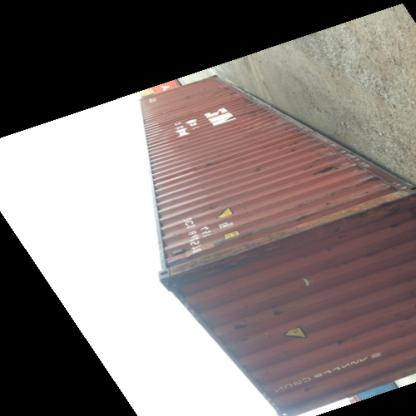Damage: (342, 164, 414, 231), (214, 75, 270, 125), (271, 124, 315, 155), (306, 158, 336, 180), (292, 207, 320, 226), (204, 200, 226, 224), (200, 152, 222, 174), (165, 137, 191, 155), (261, 296, 283, 317), (293, 381, 317, 398), (328, 330, 348, 350), (246, 162, 268, 178), (228, 318, 251, 332), (174, 90, 194, 104)
